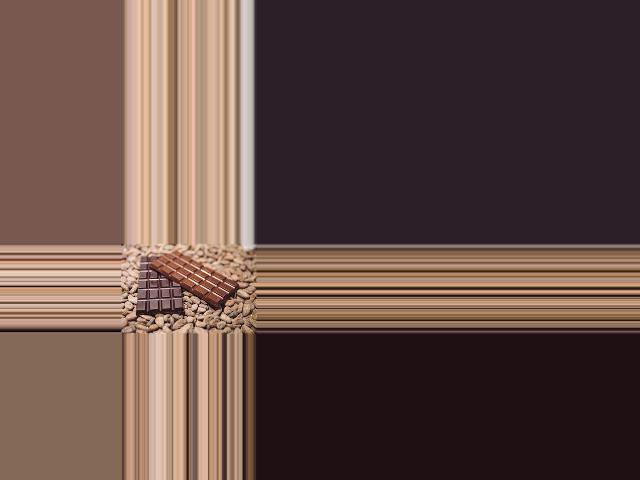chocolate: (130, 252, 183, 317)
